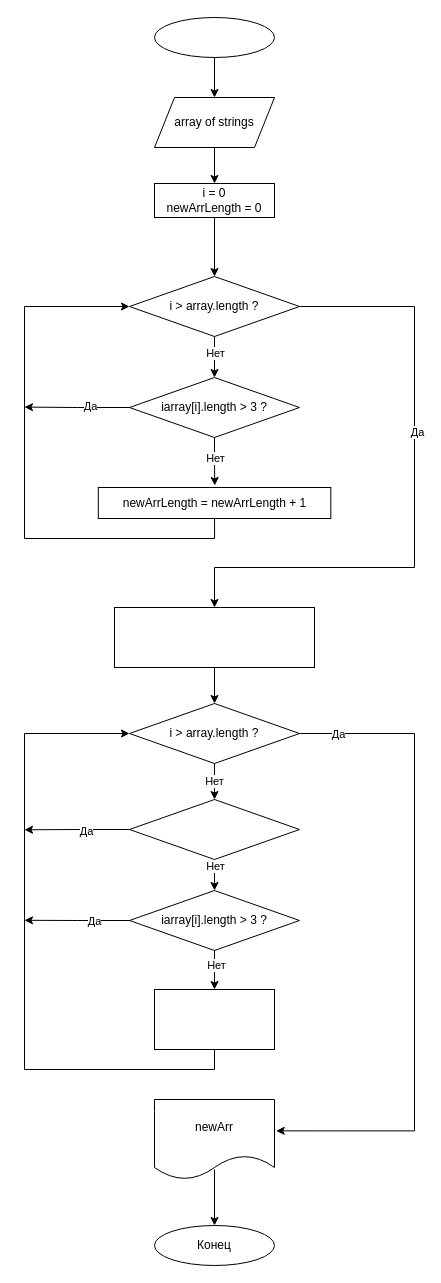
Some shapes in this 441 by 1283 pixel diagram are drawn without their labels. Here are the shapes that lost their labels. From the top down, the centre of each, then its label:
At (214,37): "Начало".
At (214,637): "i = 0 j = 0 newArr[newArrLength] of strings".
At (214,829): "j > newArrLength ?".
At (214,1019): "newArr[j] = array[i]".
